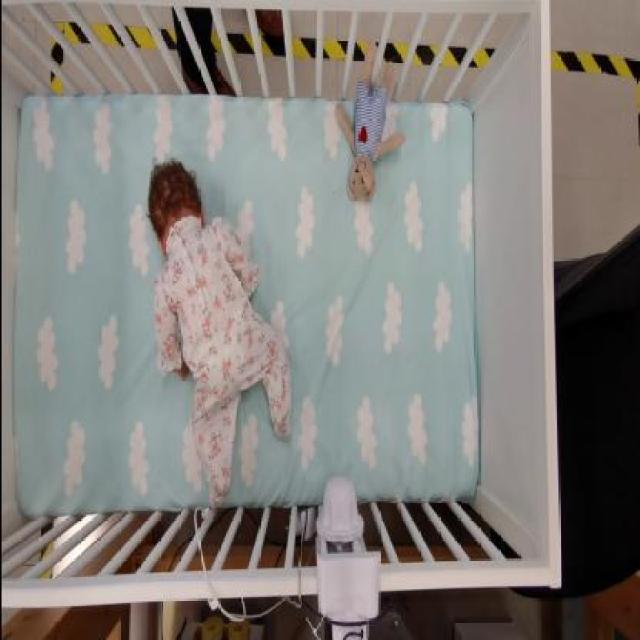baby: (147, 158, 289, 510)
